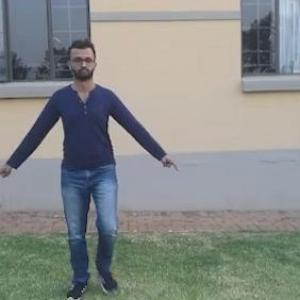land: (0, 40, 170, 294)
